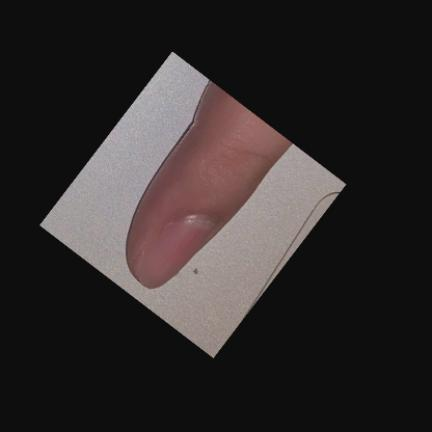Nail: (139, 218, 216, 288)
